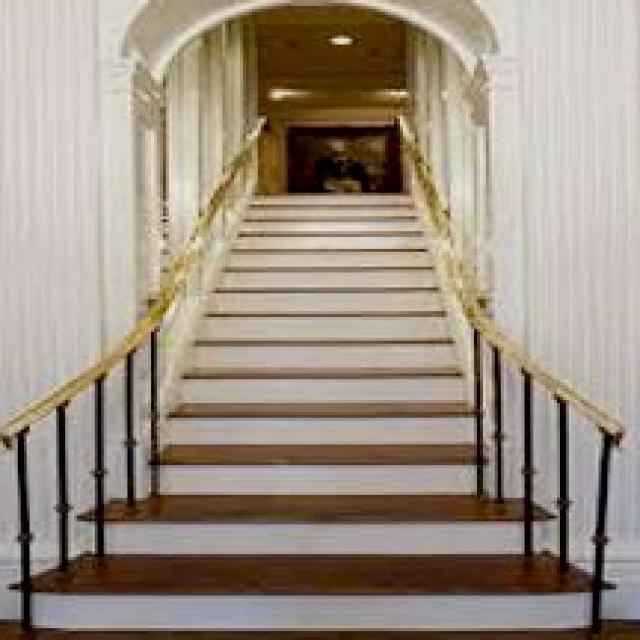upstair: (155, 283, 517, 552)
